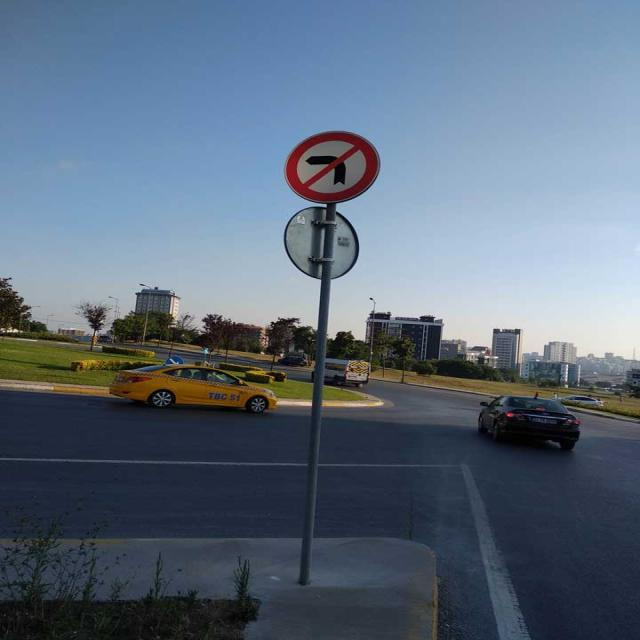soladonulmez: (284, 130, 383, 203)
